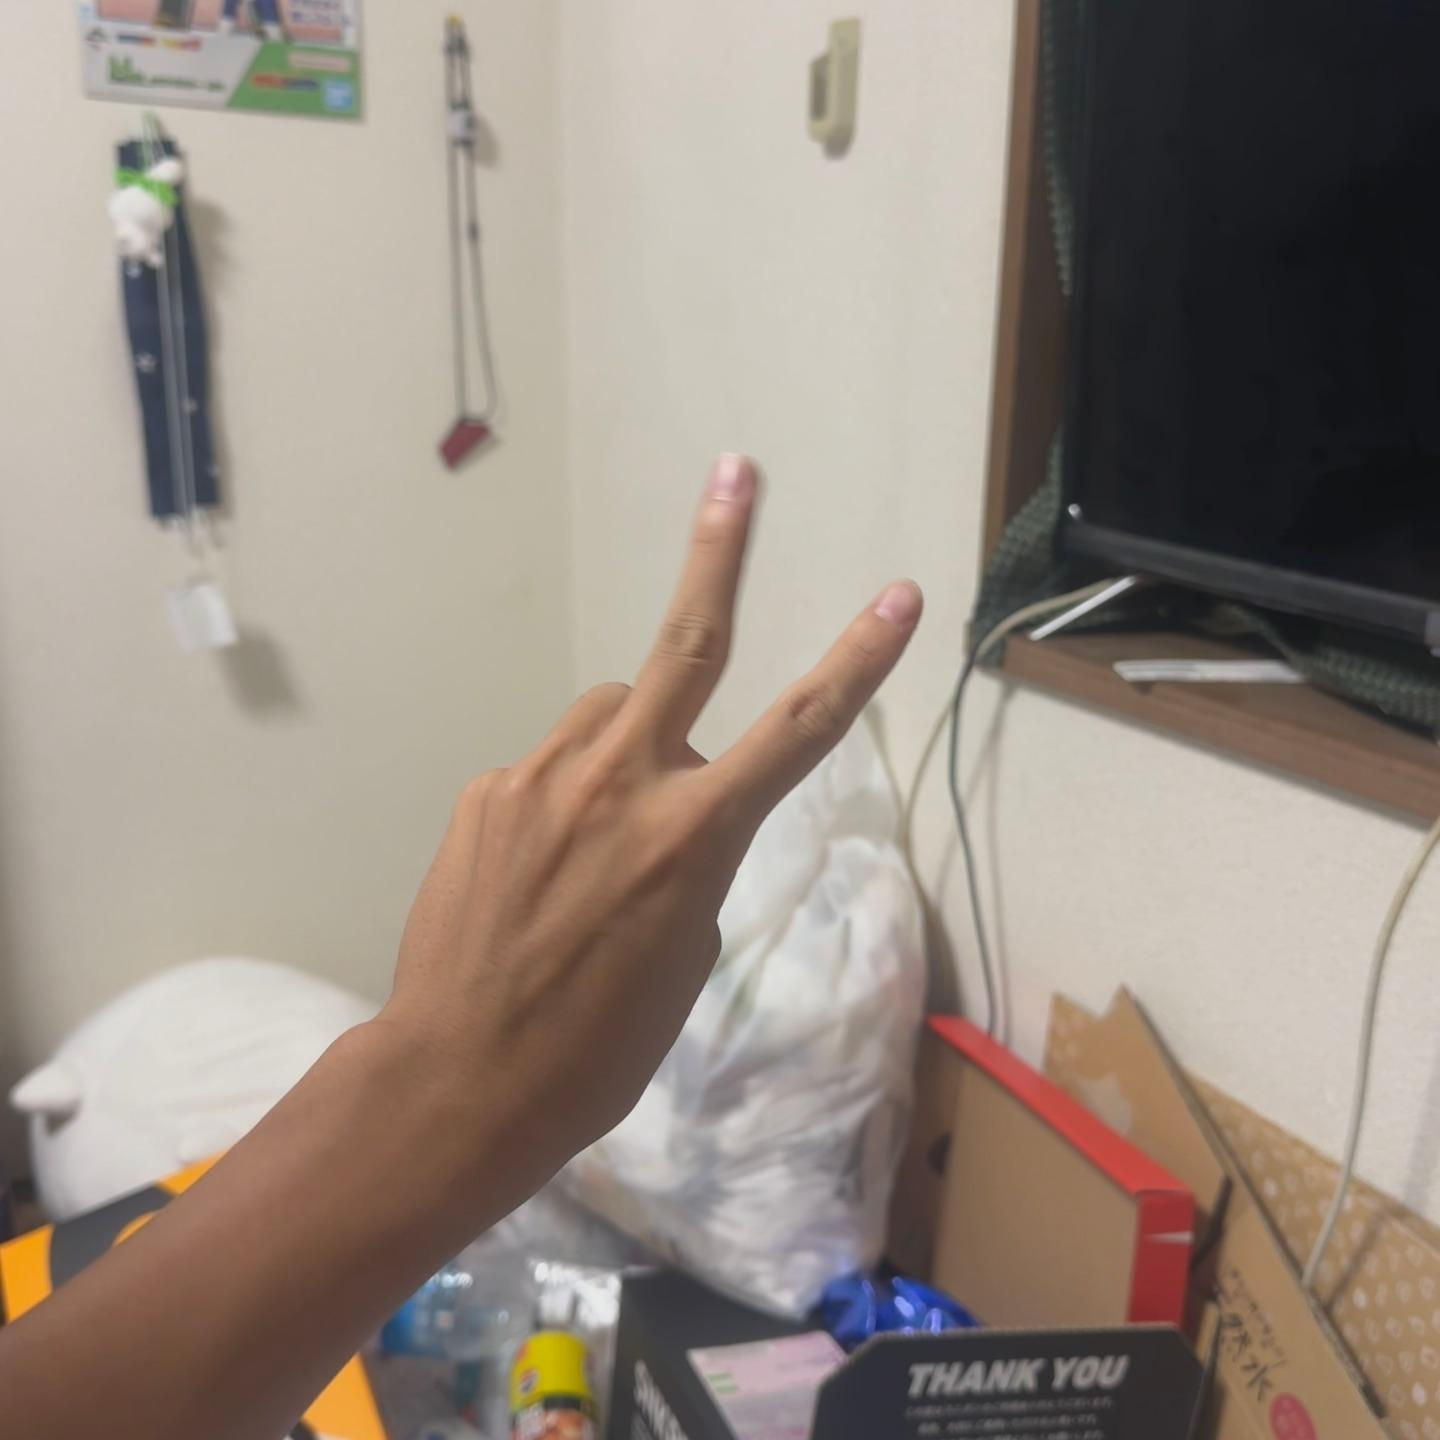without_gloves: (290, 335, 1018, 1275)
